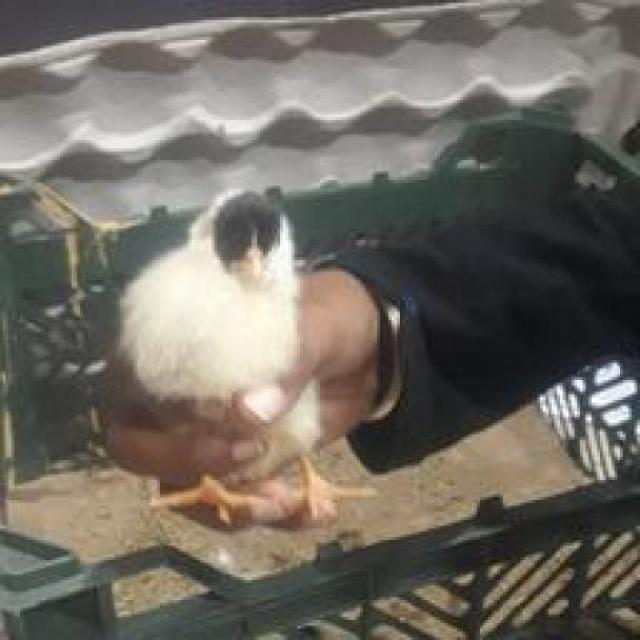Chicken: (122, 172, 375, 549)
